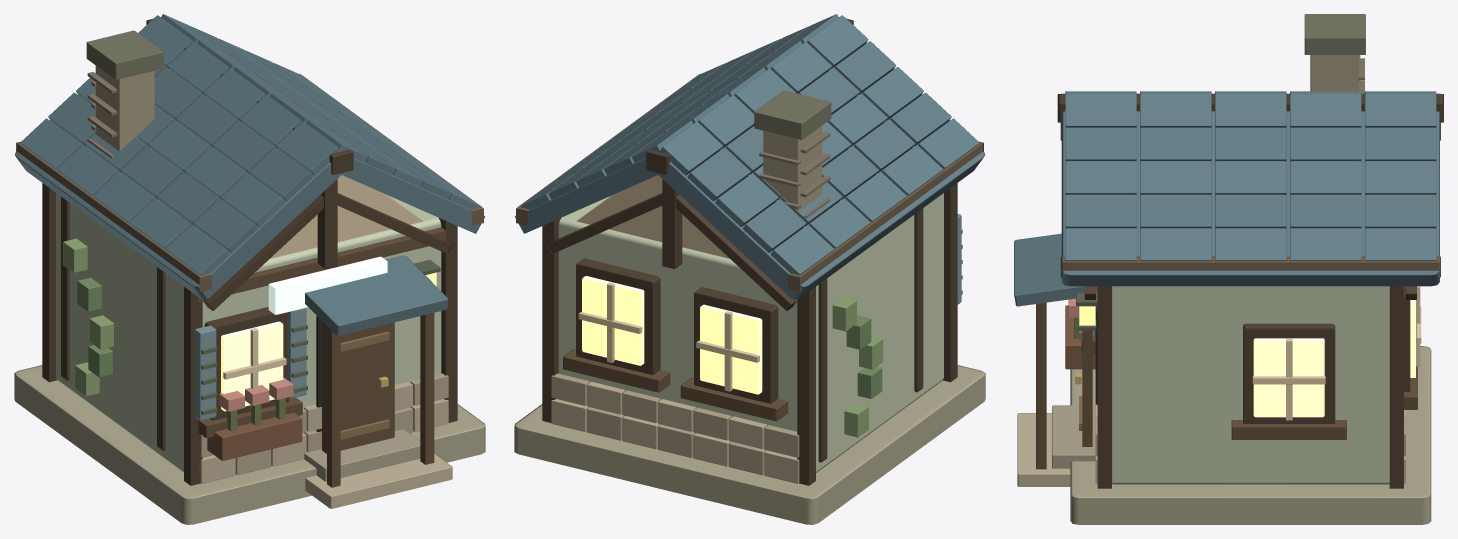
The model's file is workshop-0-2.glb.
The picture shows the model from 3 angles, left to right: view 1: azimuth 30°, elevation 25°; view 2: azimuth 150°, elevation 25°; view 3: azimuth 270°, elevation 25°; orthographic projection. The views are drawn at different scales.
Visible parts, largest first — view 1: workshop-2-0, door-hinge; view 2: workshop-2-0; view 3: workshop-2-0, door-hinge.
Part boxes in pixels (x1,y1,x2,y2): workshop-2-0: (14, 14, 485, 524); door-hinge: (322, 321, 394, 453); workshop-2-0: (514, 14, 985, 524); workshop-2-0: (1014, 14, 1443, 524); door-hinge: (1075, 306, 1092, 446).
Size of the model in its own units: 1.88 by 2.19 by 2.24.
